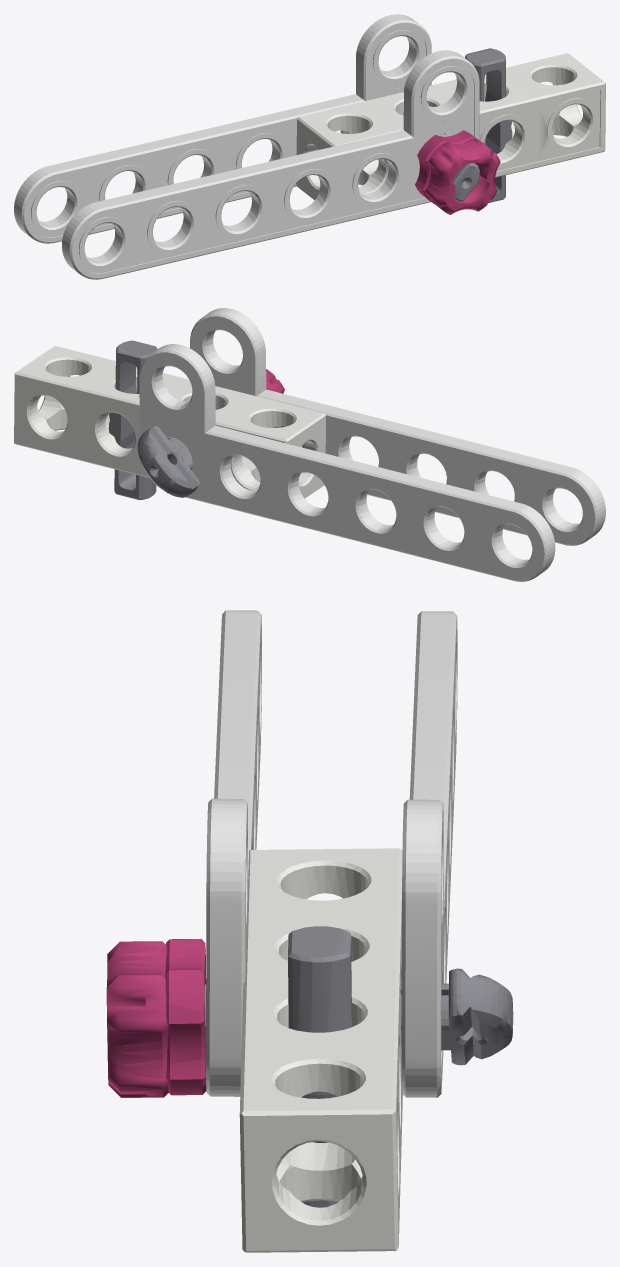
The model's file is state3.fbx.
3 renders of one model, top to bottom at view 1: azimuth 30°, elevation 25°; view 2: azimuth 150°, elevation 25°; view 3: azimuth 270°, elevation 25°, orthographic. The views are drawn at different scales.
Visible parts, largest first — view 1: Pin SPP INR LCT BDR BU01.00x00.50 - SPN-PIN-0094 (stemfie.or; view 2: Pin SPP INR LCT BDR BU01.00x00.50 - SPN-PIN-0094 (stemfie.or; view 3: Pin SPP INR LCT BDR BU01.00x00.50 - SPN-PIN-0094 (stemfie.or.
Boxes of the visible parts, bbox=[...] form: Pin SPP INR LCT BDR BU01.00x00.50 - SPN-PIN-0094 (stemfie.or: bbox=[14, 14, 605, 279]; Pin SPP INR LCT BDR BU01.00x00.50 - SPN-PIN-0094 (stemfie.or: bbox=[14, 308, 605, 581]; Pin SPP INR LCT BDR BU01.00x00.50 - SPN-PIN-0094 (stemfie.or: bbox=[106, 610, 513, 1252].
Bounding box in the file's own units: 9997 × 3125 × 3250.
